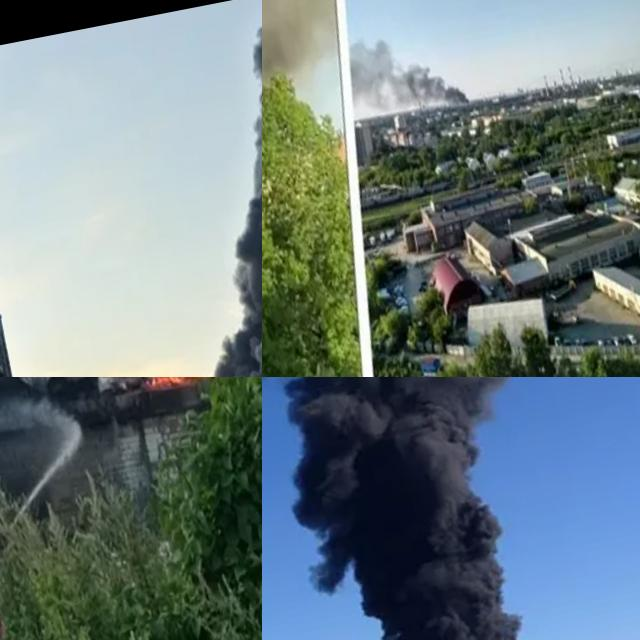smoke: (262, 377, 622, 640), (85, 0, 262, 377), (0, 377, 262, 440), (354, 27, 471, 124)
